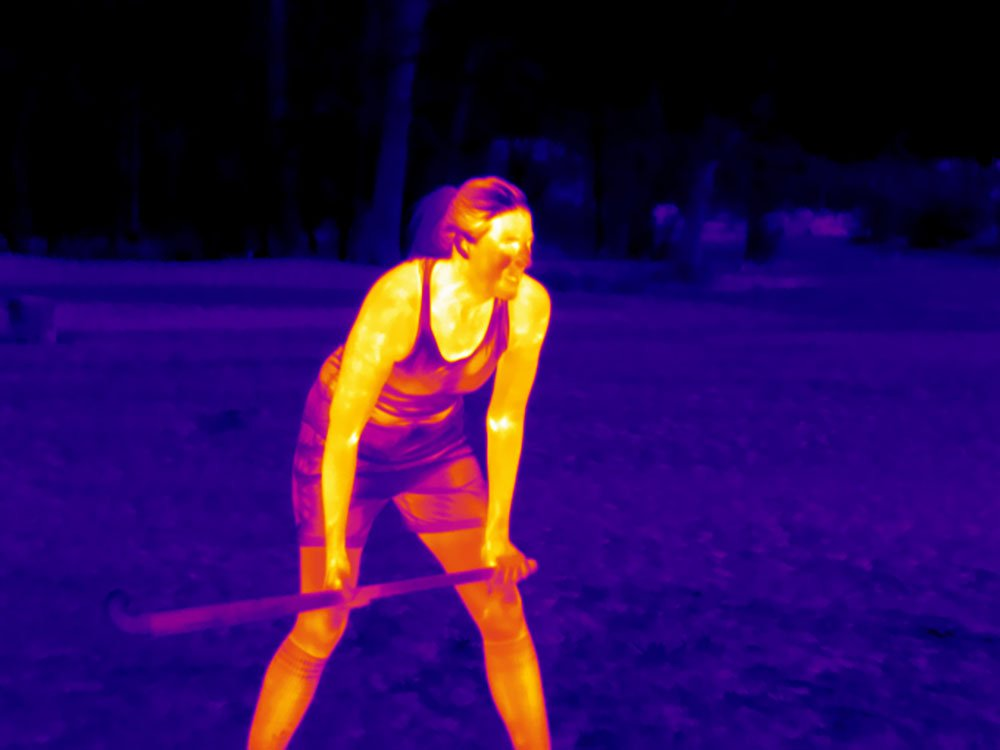hockey: (92, 554, 574, 635)
person: (245, 168, 558, 748)
